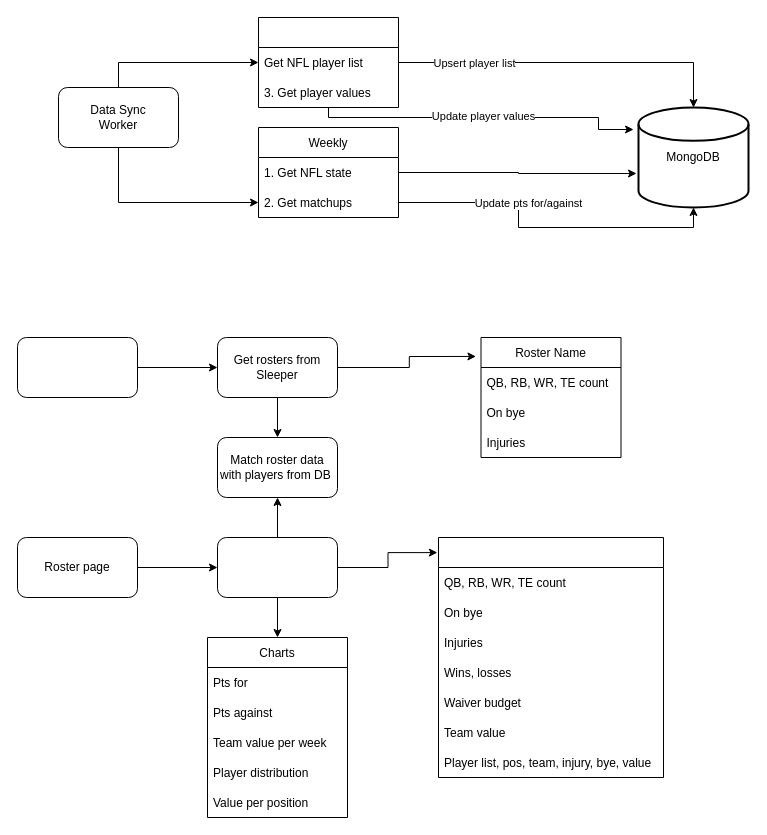
The diagram is 767 pixels wide and 835 high, and some of its shapes have lost their labels. Here are the shapes that lost their labels. From the top down, the box of each, then its label:
(258, 16, 398, 108): Daily
(16, 336, 138, 398): Home page
(216, 536, 338, 598): Get roster data
(438, 536, 664, 778): Data
